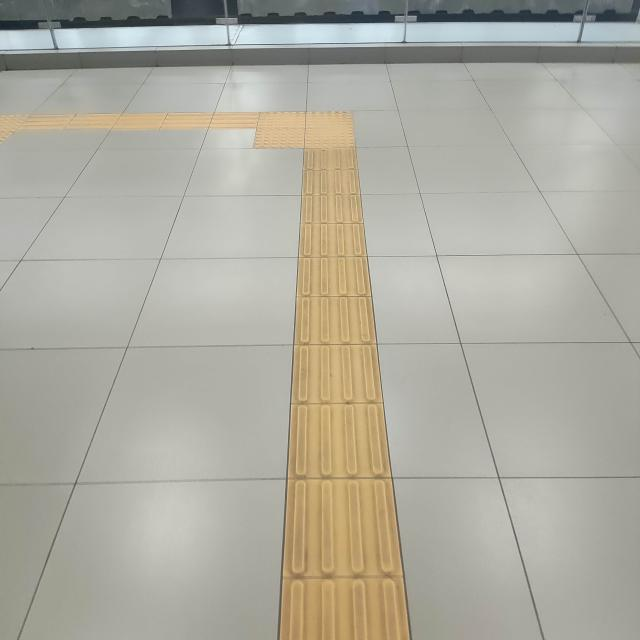kiri: (172, 85, 386, 176)
